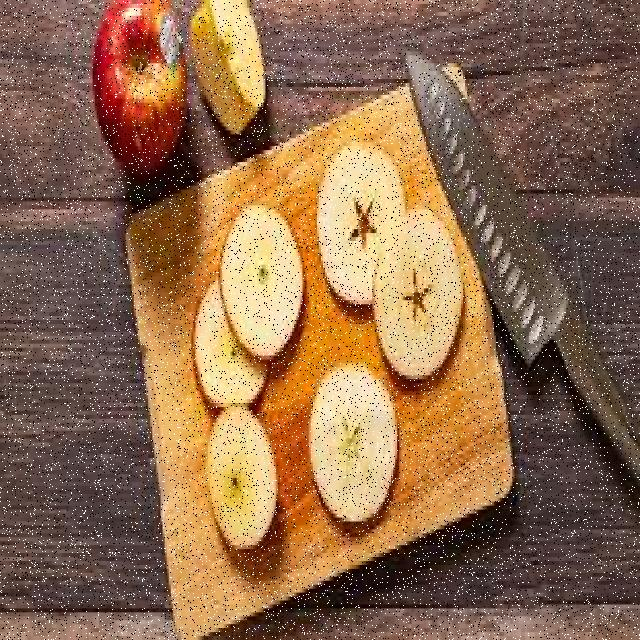Apple: (93, 2, 189, 164), (376, 204, 463, 380), (312, 369, 396, 526), (220, 204, 305, 358), (318, 146, 402, 301), (190, 3, 275, 139), (191, 276, 267, 419), (207, 413, 278, 553)
